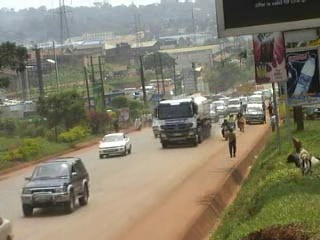Car: (19, 152, 91, 216), (93, 129, 133, 160), (0, 208, 17, 238), (223, 97, 243, 116), (209, 102, 220, 124), (215, 97, 227, 117)
Motorcycle: (220, 118, 233, 140), (223, 111, 235, 132), (235, 111, 246, 133)
